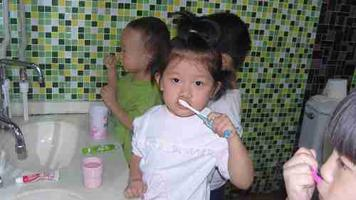person: (124, 28, 255, 199)
